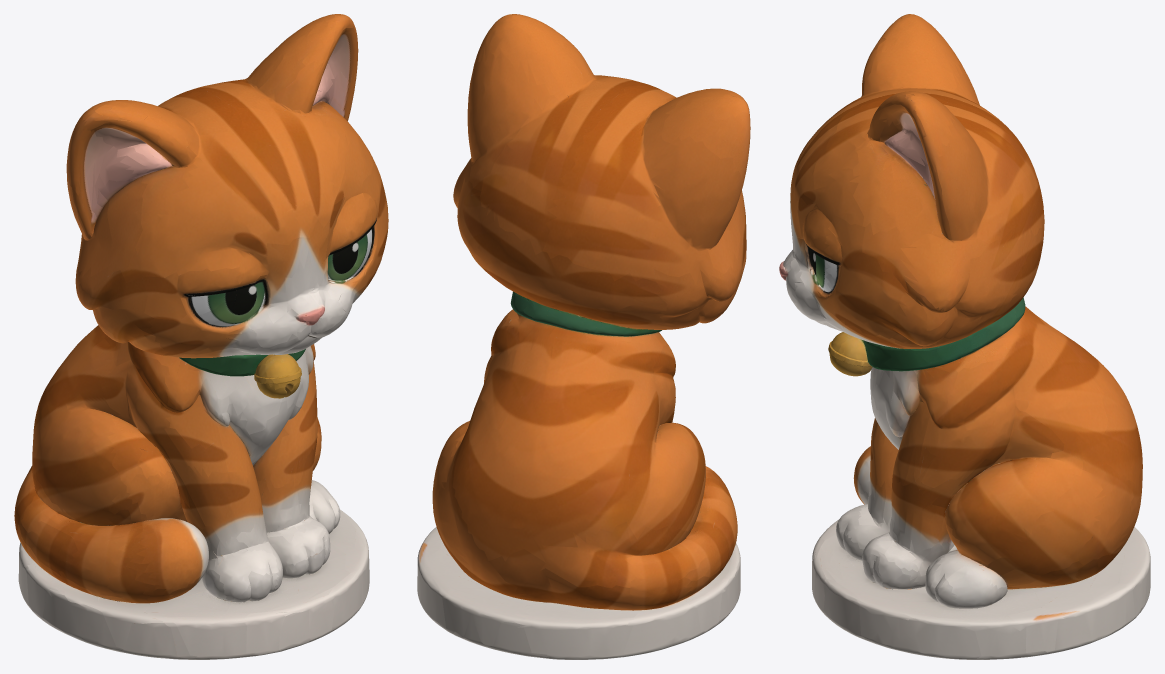
The model's file is demo.glb.
3 renders of one model, left to right at view 1: azimuth 30°, elevation 25°; view 2: azimuth 150°, elevation 25°; view 3: azimuth 270°, elevation 25°, orthographic. The views are drawn at different scales.
Bounding box in the file's own units: 1.07 × 1.9 × 1.17.
1 material, 1 textured.
